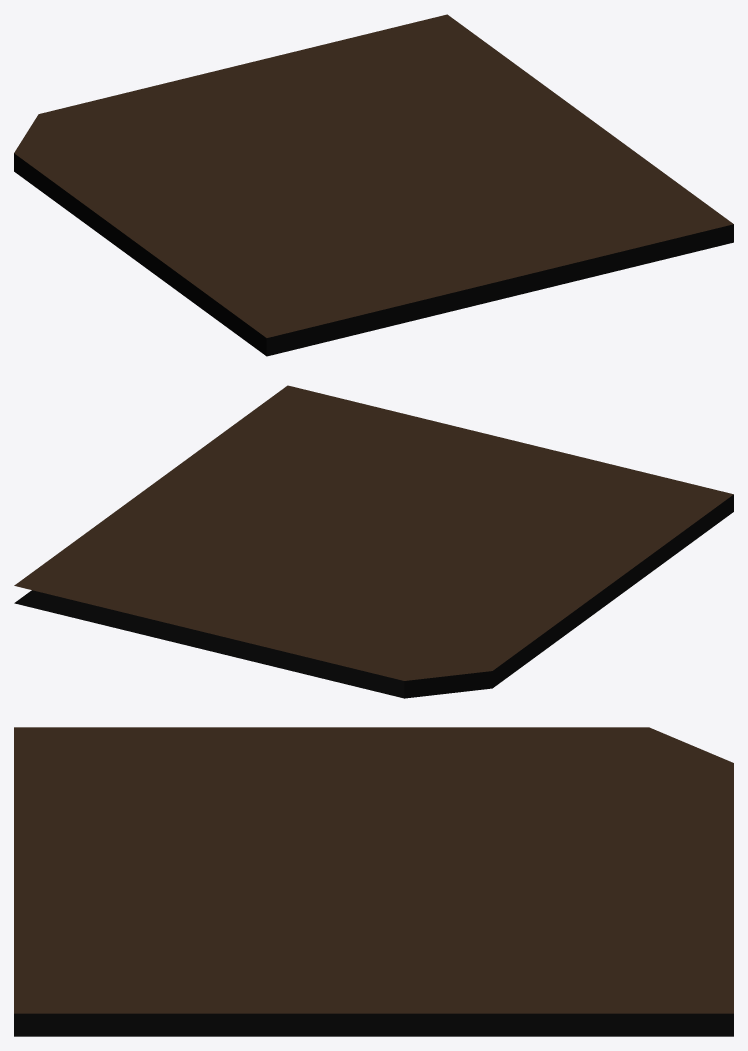
Rendered from SH_lvl1_Floor_02.fbx.
3 views of the same model, one above another, from view 1: azimuth 30°, elevation 25°; view 2: azimuth 150°, elevation 25°; view 3: azimuth 270°, elevation 25° (orthographic). The views are drawn at different scales.
Parts seen in each view (by area): view 1: Cube.139; view 2: Cube.139; view 3: Cube.139.
Part boxes in pixels (x1=…): Cube.139: x1=14, y1=14, x2=733, y2=356; Cube.139: x1=14, y1=385, x2=733, y2=698; Cube.139: x1=14, y1=727, x2=733, y2=1036.
Bounding box in the file's own units: 8.5 × 8 × 0.3.
